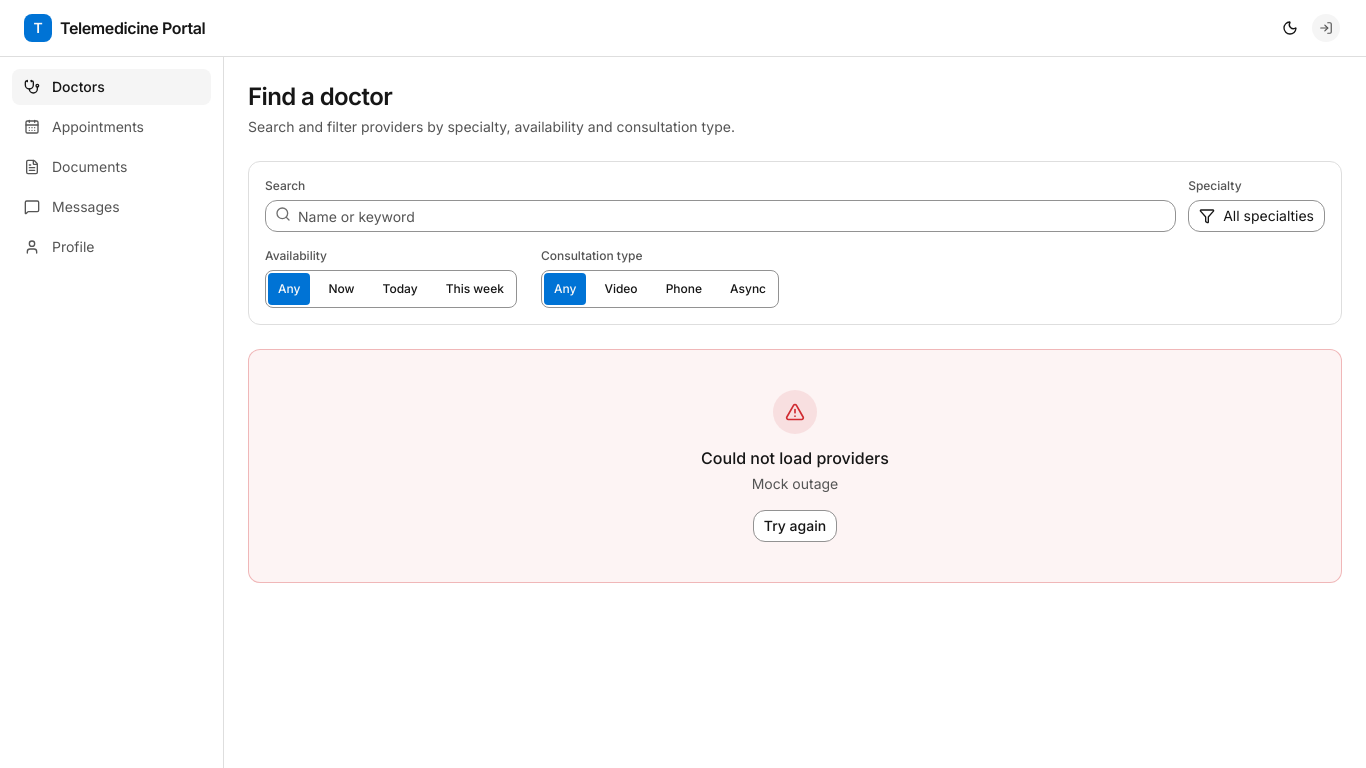
Test: doctors list › shows ErrorState when the fetch fails, then recovers on retry
Expected: the message shows "Mock outage", 752,475 -> 838,492
Click the button "Try again". click: (795, 526)
box: 753,510 -> 837,542
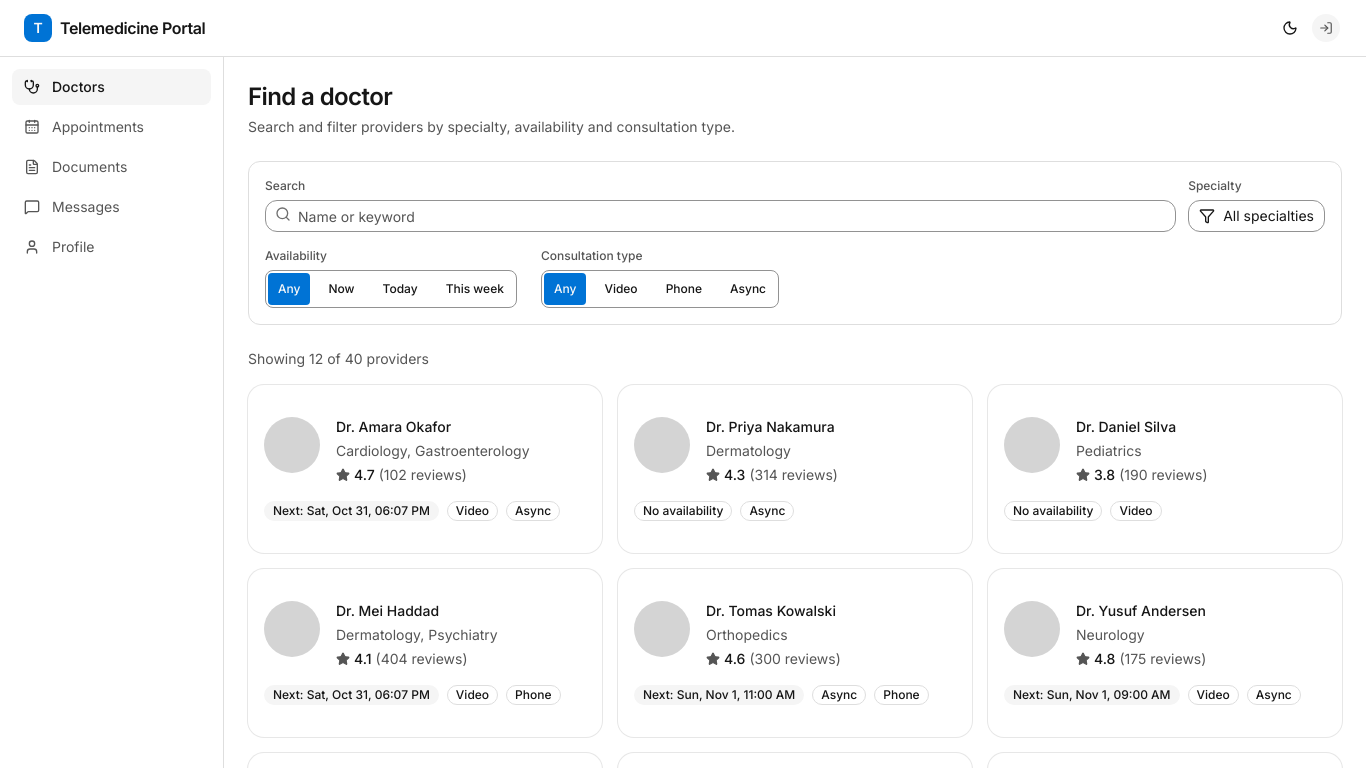
Result: the message "Could not load providers Mock outage Try again" is gone
